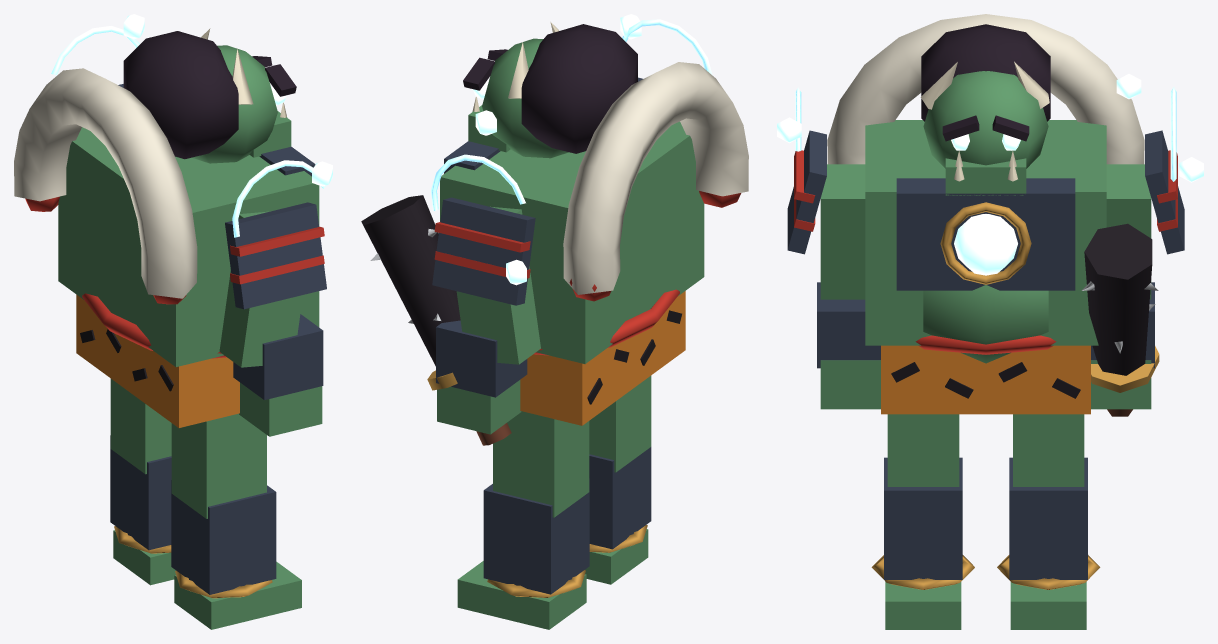
File: enemy_boss_storm.glb
3 views of the same model, side by side, from view 1: azimuth 30°, elevation 25°; view 2: azimuth 150°, elevation 25°; view 3: azimuth 270°, elevation 25° (orthographic). The views are drawn at different scales.
Visible parts, largest first — view 1: torso, deco_kazebukuro_bag, hair, suneate_l, loin_tiger, leg_l_mesh, sode_l, suneate_r, kote_l, arm_l_mesh, foot_l, head (+16 smaller); view 2: torso, deco_kazebukuro_bag, hair, suneate_r, loin_tiger, leg_r_mesh, kanabo_head, sode_r, suneate_l, kote_r, arm_r_mesh, foot_r (+14 smaller); view 3: torso, deco_kazebukuro_bag, do_plate, loin_tiger, kanabo_head, head, suneate_r, suneate_l, belly, arm_l_mesh, hair, leg_l_mesh (+21 smaller).
Part boxes in pixels (bbox=[...]): torso: bbox=[58, 127, 319, 366]; deco_kazebukuro_bag: bbox=[14, 68, 197, 298]; hair: bbox=[123, 31, 238, 159]; suneate_l: bbox=[171, 480, 276, 594]; loin_tiger: bbox=[76, 294, 239, 427]; leg_l_mesh: bbox=[171, 413, 266, 518]; sode_l: bbox=[225, 202, 326, 309]; suneate_r: bbox=[110, 435, 171, 550]; kote_l: bbox=[233, 314, 323, 399]; arm_l_mesh: bbox=[219, 211, 302, 367]; foot_l: bbox=[174, 561, 301, 629]; head: bbox=[192, 45, 277, 163]; torso: bbox=[440, 121, 704, 363]; deco_kazebukuro_bag: bbox=[563, 62, 748, 294]; hair: bbox=[521, 24, 637, 153]; suneate_r: bbox=[483, 478, 589, 594]; loin_tiger: bbox=[520, 291, 685, 425]; leg_r_mesh: bbox=[493, 411, 589, 517]; kanabo_head: bbox=[361, 195, 460, 366]; sode_r: bbox=[432, 197, 535, 305]; suneate_l: bbox=[589, 447, 651, 549]; kote_r: bbox=[436, 320, 527, 397]; arm_r_mesh: bbox=[456, 206, 540, 364]; foot_r: bbox=[457, 561, 586, 629]; torso: bbox=[865, 120, 1106, 345]; deco_kazebukuro_bag: bbox=[827, 14, 1144, 164]; do_plate: bbox=[896, 178, 1075, 290]; loin_tiger: bbox=[881, 345, 1090, 414]; kanabo_head: bbox=[1084, 223, 1152, 375]; head: bbox=[923, 71, 1048, 168]; suneate_r: bbox=[1009, 457, 1087, 579]; suneate_l: bbox=[884, 457, 962, 579]; belly: bbox=[923, 285, 1048, 363]; arm_l_mesh: bbox=[820, 164, 865, 299]; hair: bbox=[921, 24, 1050, 121]; leg_l_mesh: bbox=[887, 414, 959, 486].
Bounding box in the file's own units: 0.3268 × 0.6975 × 0.4777.
